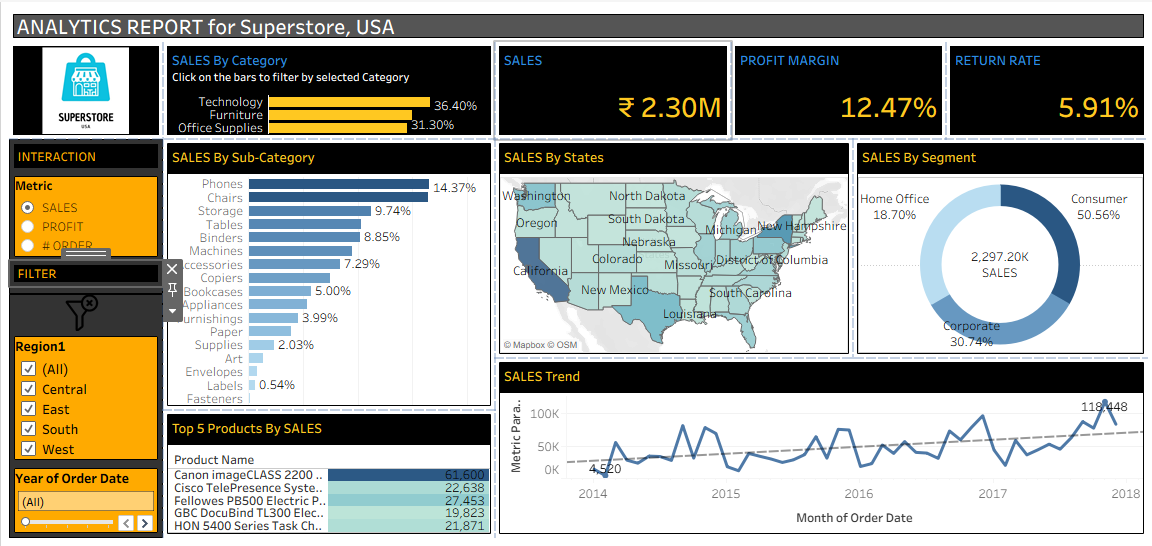

The dashboard page shown, as its layout file describes it:
{"tool":"tableau","page":{"name":"Dashboard 1","canvas":[1000,1000],"units":"permille","ordinal":0},"visuals":[{"type":"text","box":[6.9,14.7,986.1,58.8]},{"type":"image","param":"Image/Superstore.jpg","box":[6.9,73.5,133.3,178.3]},{"type":"worksheet","title":"Category","mark":"Automatic","rows":["Category"],"cols":["Calculation_1316991658823683"],"box":[140.2,73.5,287.4,177.9]},{"type":"worksheet","title":"Metric","mark":"Automatic","box":[427.7,73.5,204.3,177.9]},{"type":"worksheet","title":"Profit Margin","mark":"Automatic","box":[632,73.5,186.2,177.9]},{"type":"worksheet","title":"Return Rate","mark":"Automatic","box":[818.1,73.5,174.9,177.9]},{"type":"worksheet","title":"Sub-Category","mark":"Automatic","rows":["Sub-Category"],"cols":["Calculation_1316991658823683"],"box":[140.2,251.4,287.4,498.6]},{"type":"worksheet","title":"Map","mark":"Automatic","box":[427.7,251.4,310,402.3]},{"type":"worksheet","title":"Donut","mark":"Pie","rows":["Calculation_0721331459387393","Calculation_0721331459403779"],"box":[737.6,251.4,255.5,402.3]},{"type":"text","box":[7.8,253.7,131.6,58.8]},{"type":"parameter","param":"[Parameters].[Parameter 2]","box":[7.8,312.5,131.6,163.6]},{"type":"text","box":[7.8,476.1,131.6,46]},{"type":"dashboard-object","box":[50.9,536.8,38,68]},{"type":"filter","title":"Metric","param":"[federated.14e7xfb0lgoz5a1h3me9f0al7lj9].[none:Region:nk]","box":[7.8,606.6,131.6,242.7]},{"type":"worksheet","title":"Line","mark":"Automatic","rows":["Calculation_1316991658823683"],"cols":["Order Date"],"box":[427.7,653.7,565.4,331.6]},{"type":"worksheet","title":"Table","mark":"Square","rows":["Product Name"],"box":[140.2,750,287.4,235.3]},{"type":"filter","title":"Metric","param":"[federated.14e7xfb0lgoz5a1h3me9f0al7lj9].[yr:Order Date:ok]","box":[7.8,849.2,131.6,134.2]}]}

Visuals, with their boxes on the dashboard's canvas, which has no fixed pixel size, in thousandths of its width and height (x1, y1, x2, y2). These are canvas units, not pixel positions in the 1152x546 screenshot, which may show the page scaled, cropped or inside an application window:
text: 7,15,993,74
image: 7,74,140,252
"Category" worksheet: 140,74,428,251
"Metric" worksheet: 428,74,632,251
"Profit Margin" worksheet: 632,74,818,251
"Return Rate" worksheet: 818,74,993,251
"Sub-Category" worksheet: 140,251,428,750
"Map" worksheet: 428,251,738,654
"Donut" worksheet (Pie marks): 738,251,993,654
text: 8,254,139,312
parameter: 8,312,139,476
text: 8,476,139,522
dashboard-object: 51,537,89,605
"Metric" filter: 8,607,139,849
"Line" worksheet: 428,654,993,985
"Table" worksheet (Square marks): 140,750,428,985
"Metric" filter: 8,849,139,983
